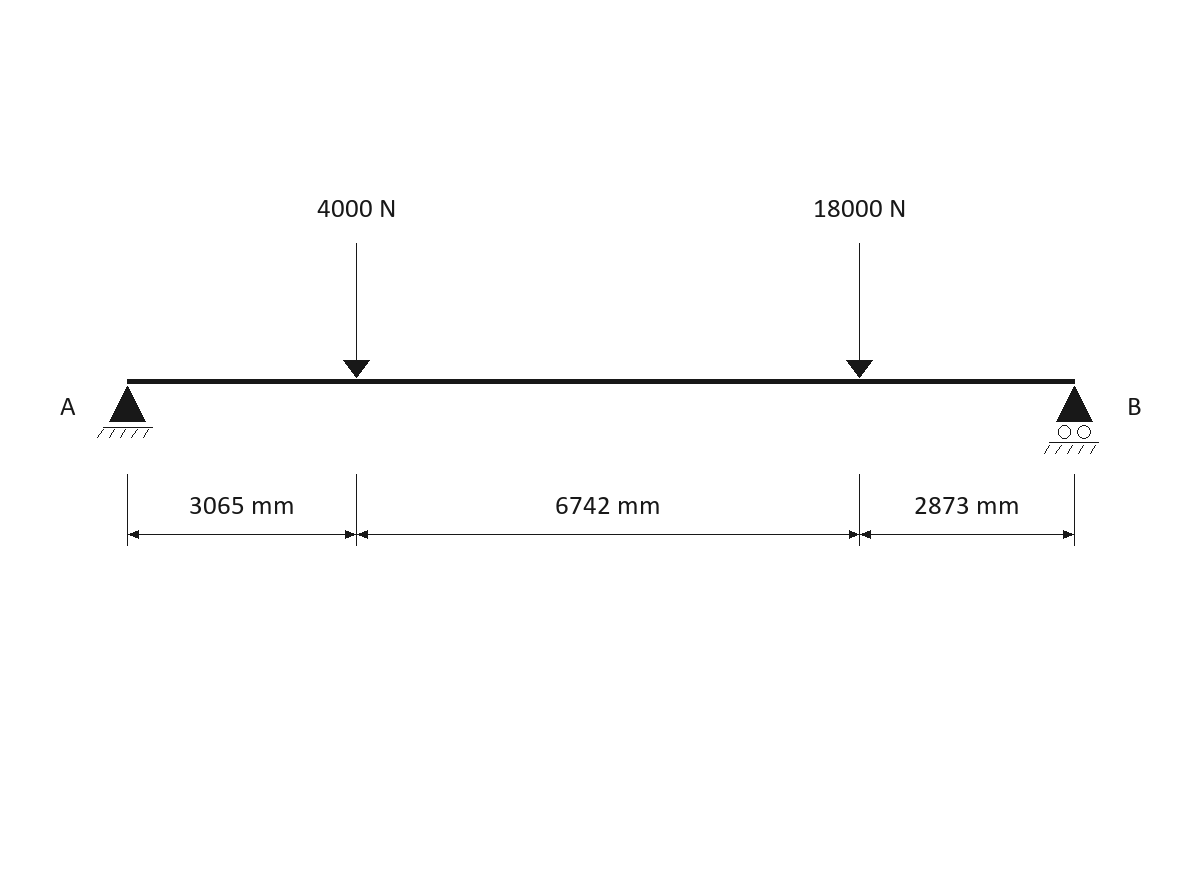pin_support: (97, 386, 153, 438)
point_load: (343, 243, 370, 378), (846, 243, 873, 378)
roller_support: (1044, 386, 1099, 454)
